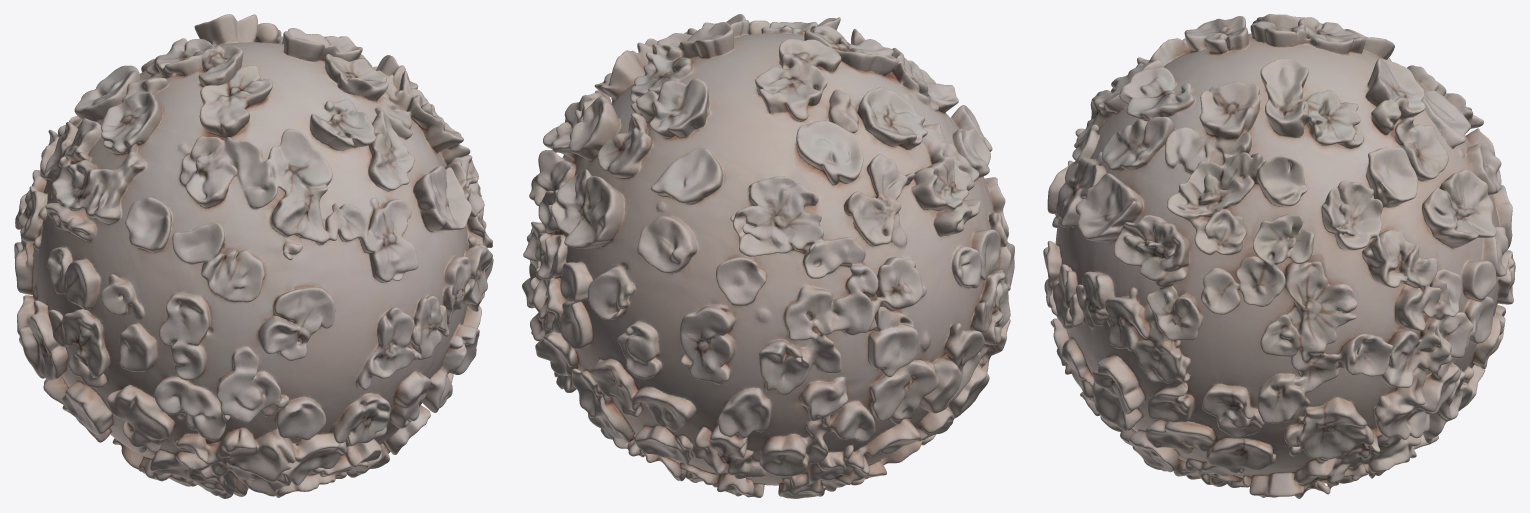
File: detailed_realistic_model_solid_17.glb
The picture shows the model from 3 angles, left to right: view 1: azimuth 30°, elevation 25°; view 2: azimuth 150°, elevation 25°; view 3: azimuth 270°, elevation 25°; orthographic projection. The views are drawn at different scales.
Parts seen in each view (by area): view 1: tripo_node_74e76c26-752c-4f75-b99e-fb94ca3662e3; view 2: tripo_node_74e76c26-752c-4f75-b99e-fb94ca3662e3; view 3: tripo_node_74e76c26-752c-4f75-b99e-fb94ca3662e3.
Part boxes in pixels (left/top/right/bottom): tripo_node_74e76c26-752c-4f75-b99e-fb94ca3662e3: left=14, top=14, right=493, bottom=498; tripo_node_74e76c26-752c-4f75-b99e-fb94ca3662e3: left=522, top=14, right=1014, bottom=498; tripo_node_74e76c26-752c-4f75-b99e-fb94ca3662e3: left=1043, top=14, right=1515, bottom=498.
Bounding box in the file's own units: 0.999 × 1 × 0.9753.
Materials: 1 (1 with a texture image).
